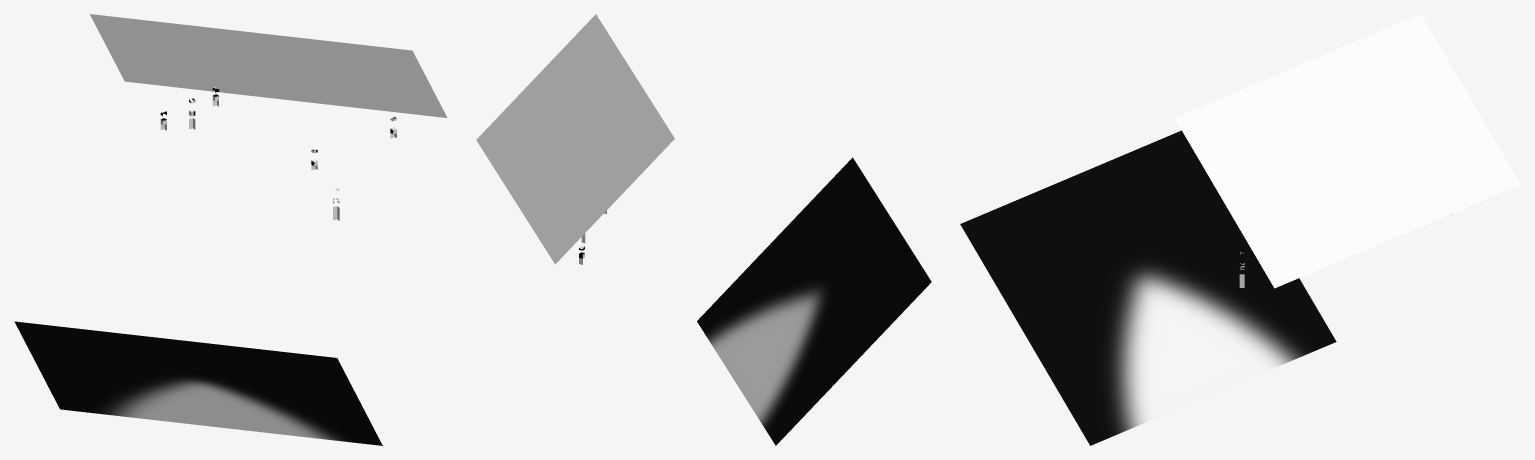
The picture shows the model from 3 angles, left to right: view 1: azimuth 30°, elevation 25°; view 2: azimuth 150°, elevation 25°; view 3: azimuth 270°, elevation 25°; orthographic projection. The views are drawn at different scales.
Visible parts, largest first — view 1: BG Plane, BG Fade; view 2: BG Plane, BG Fade; view 3: BG Plane, BG Fade.
Part boxes in pixels (x1,y1,x2,y2): BG Plane: [14, 321, 382, 445]; BG Fade: [90, 14, 447, 117]; BG Plane: [697, 157, 931, 445]; BG Fade: [476, 14, 674, 264]; BG Plane: [960, 130, 1336, 445]; BG Fade: [1174, 14, 1520, 288].
Size of the model in its own units: 112 by 80.25 by 112.
